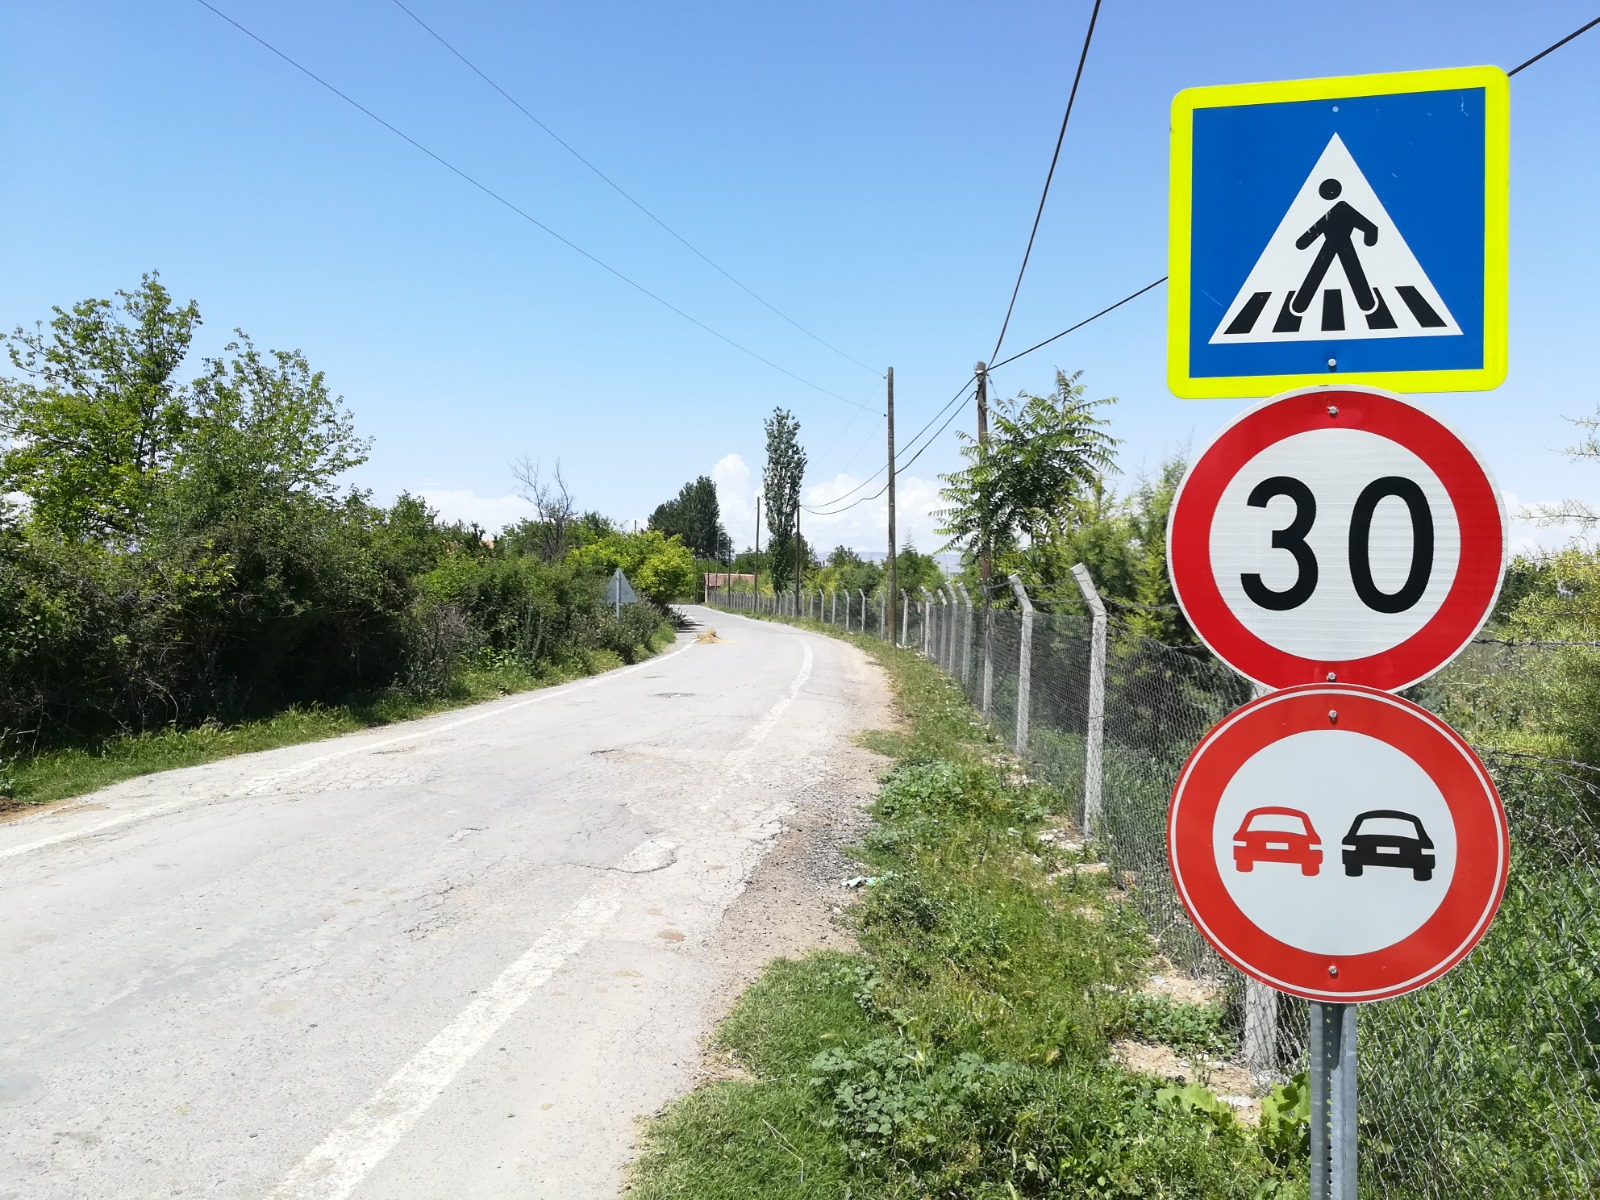yaya_gecidi_levha: (1167, 66, 1515, 388)
